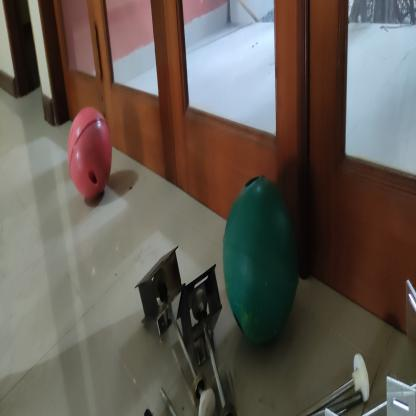green_buoy: (220, 173, 301, 350)
red_buoy: (67, 103, 115, 203)
